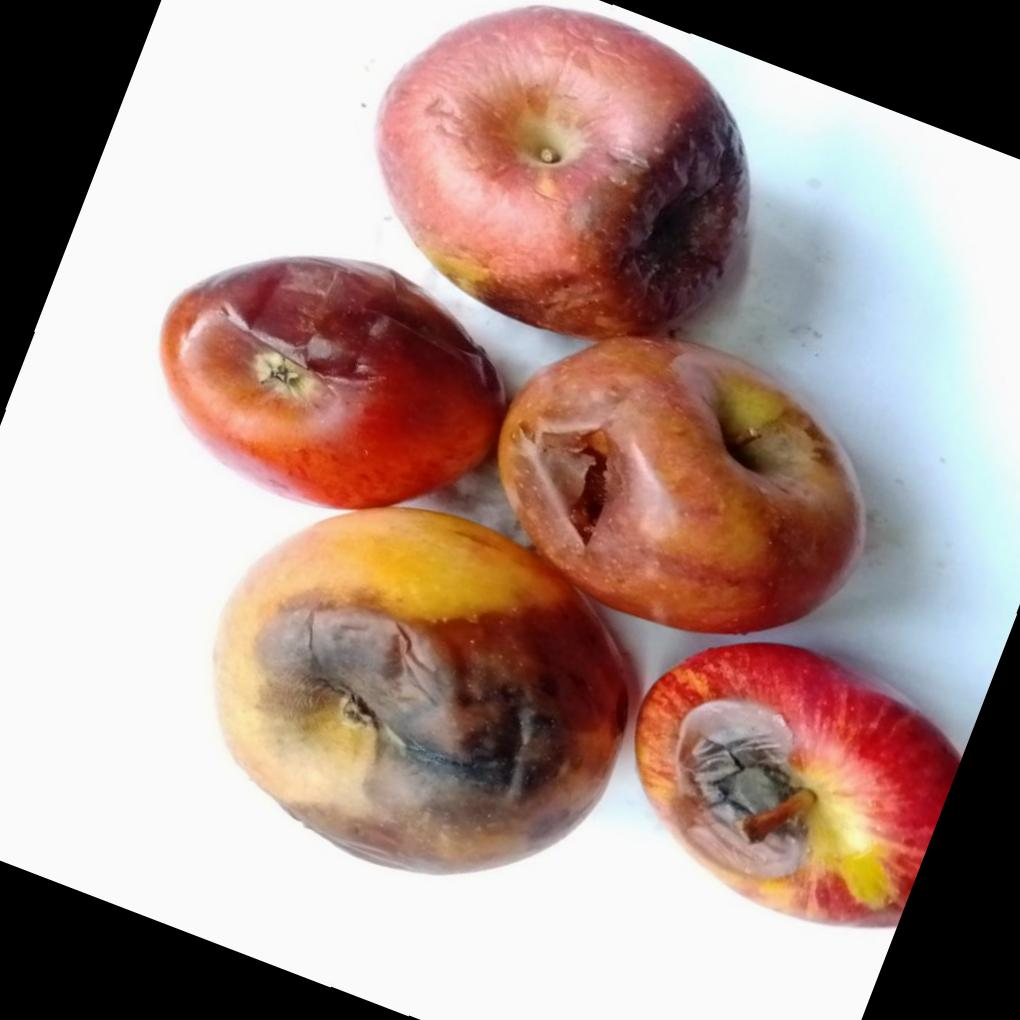FreshOrange: (156, 2, 960, 928)
